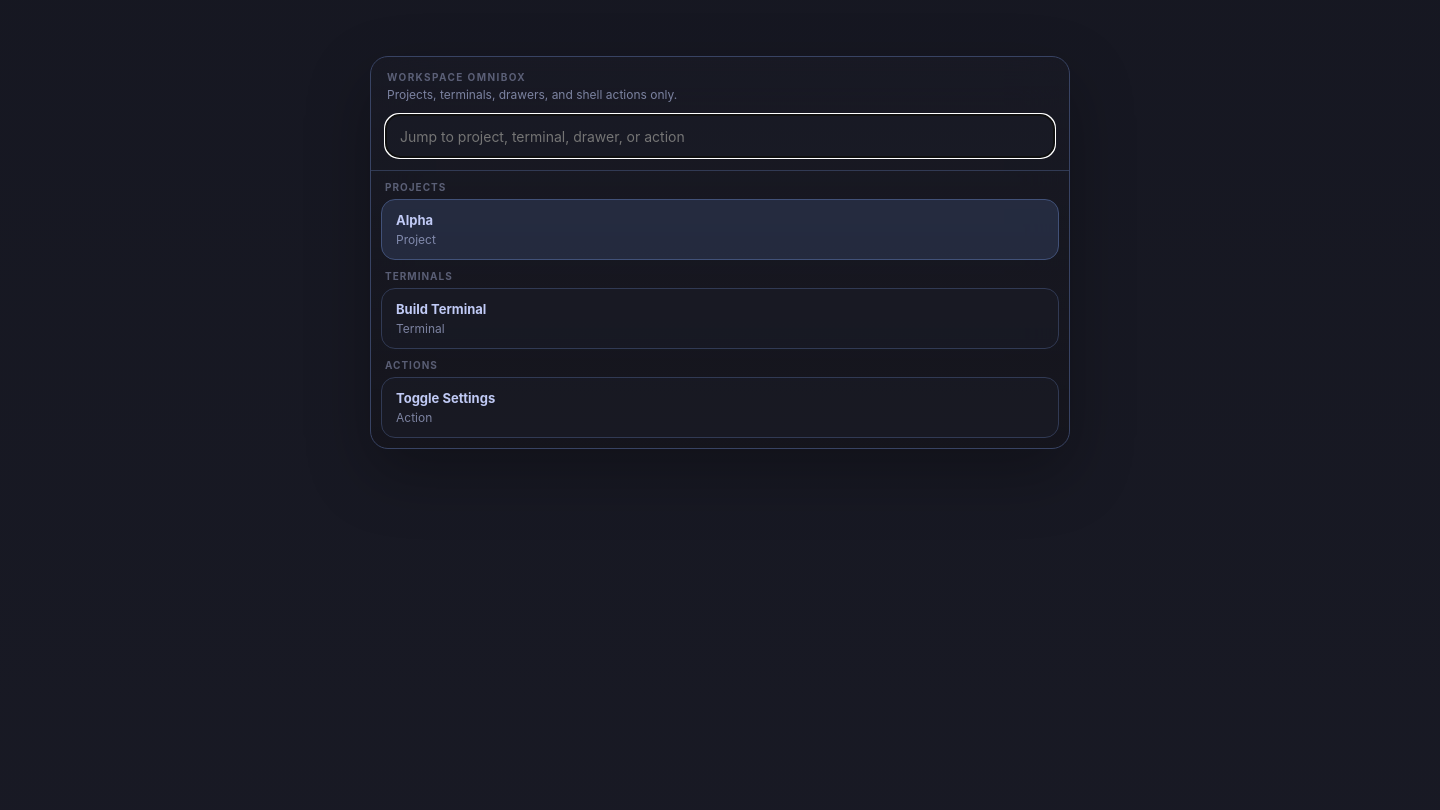
Test: QuickSwitcherDialog › shows the empty state when no results match the query
Step 1. Type "zzz" into the dropdown with test id "quick-switcher-input" → (720, 136), box [385, 114, 1055, 158]
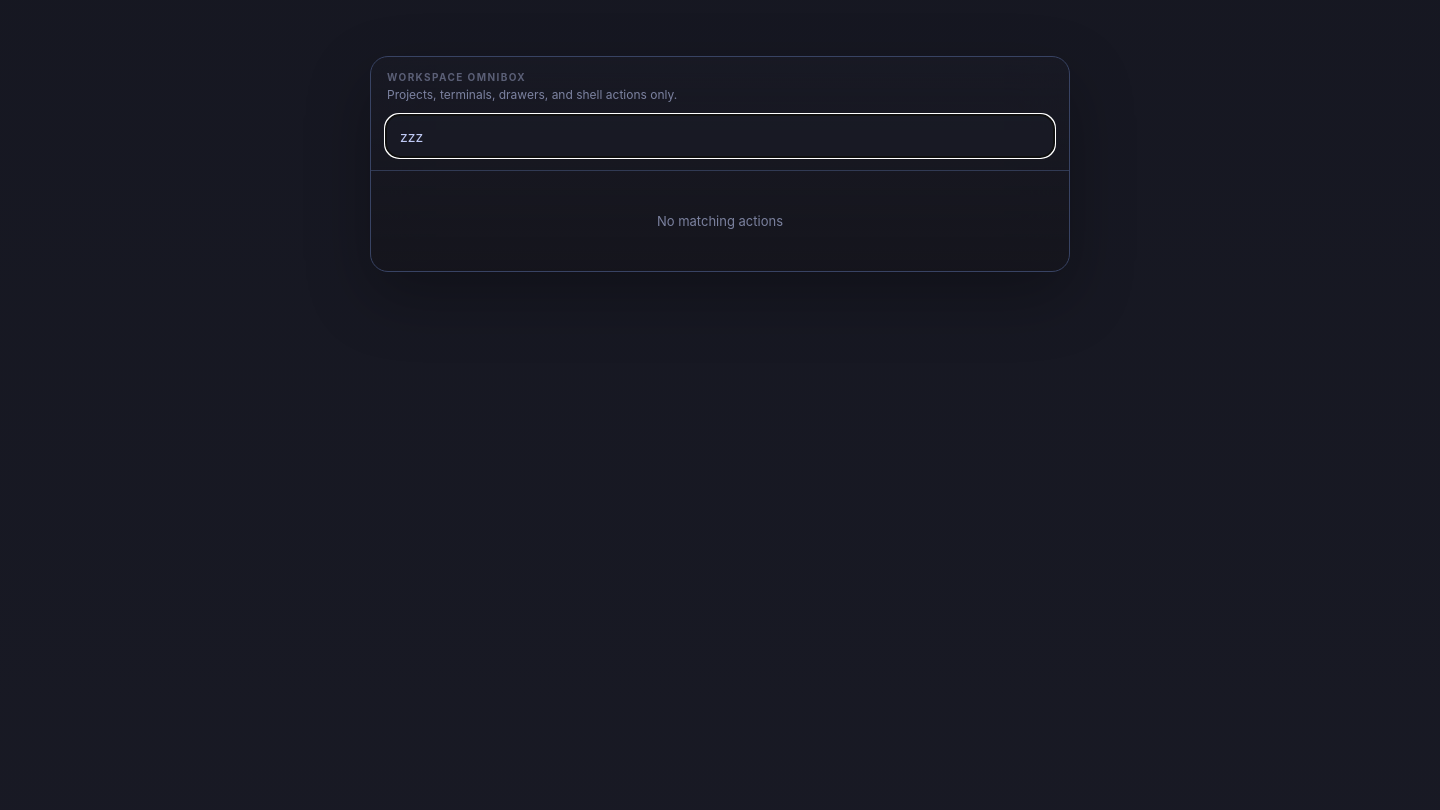
Result: the text "No matching actions" is shown at [657, 213, 783, 229]
